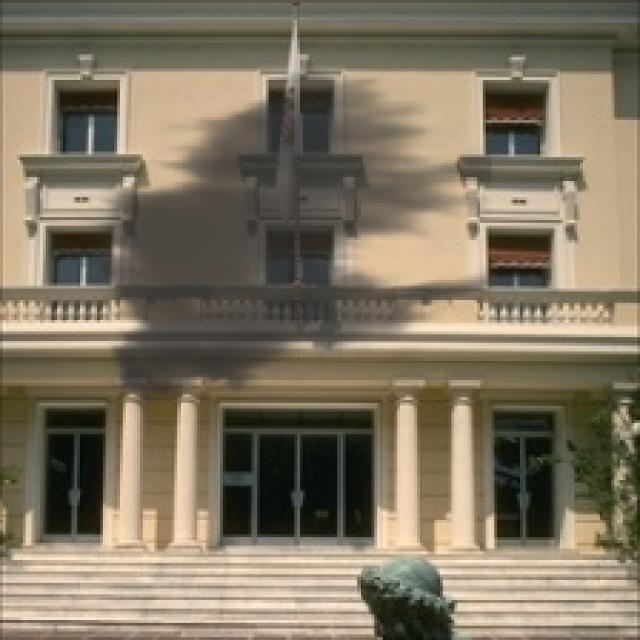smoke: (74, 57, 492, 417)
